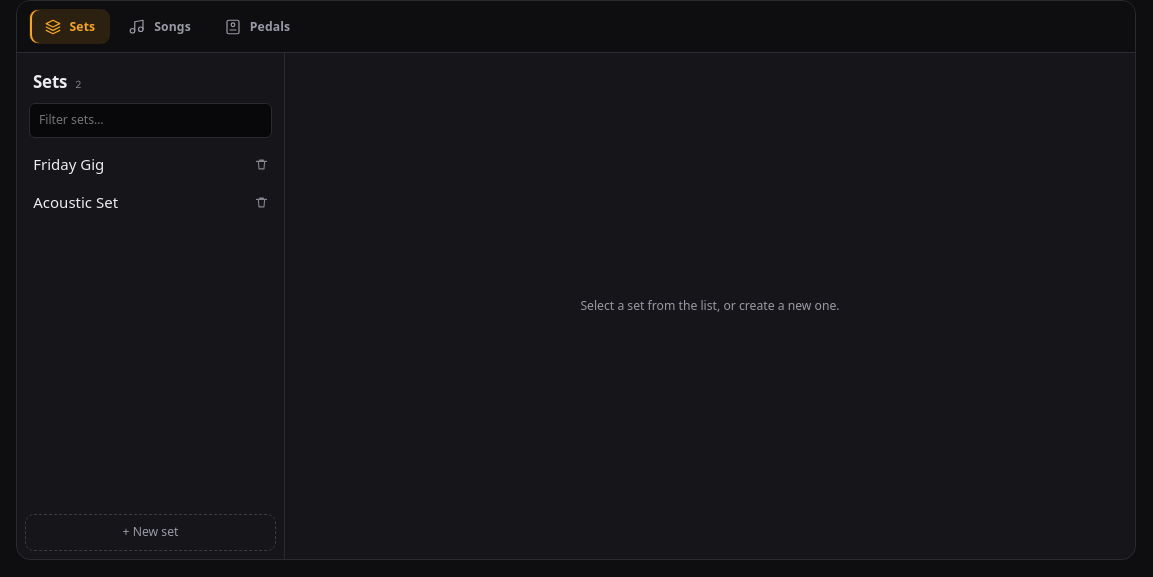
Test: Configure screen › selecting an item loads it into the editor
Click the button "Friday Gig" at (136, 165), box [25,146,248,183]
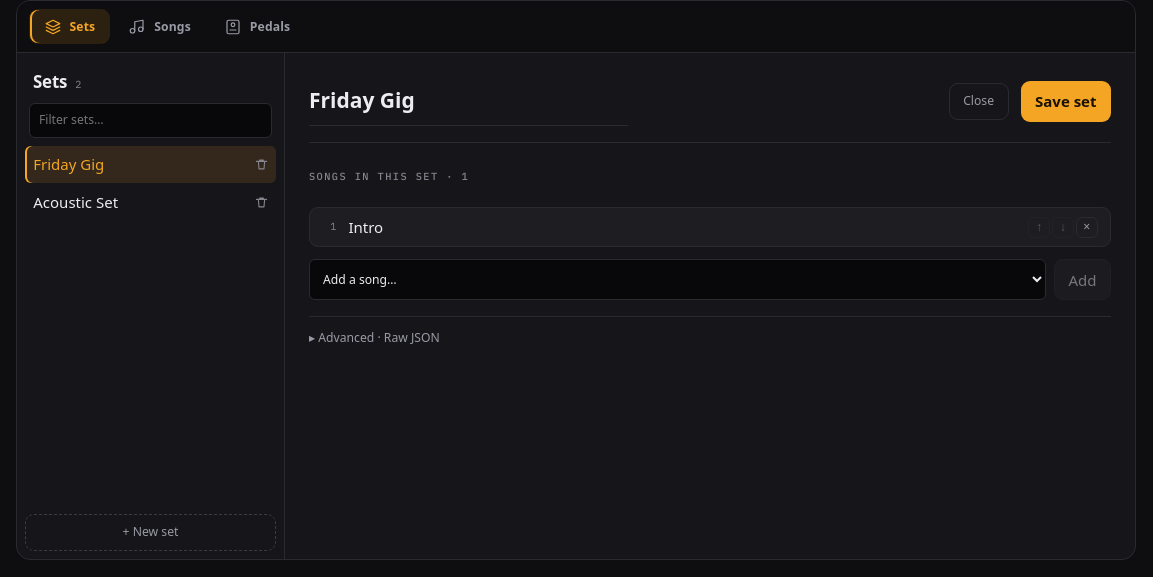
Expected: the field showing "Friday Gig" is shown, [309,77,628,126]
